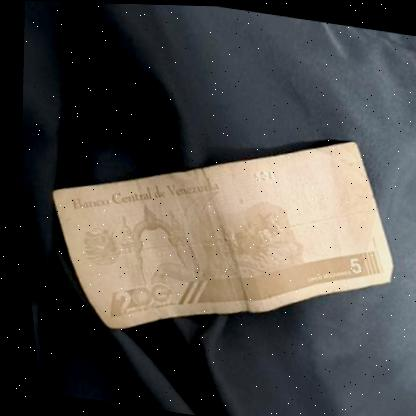five-back-vef: (22, 92, 412, 368)
